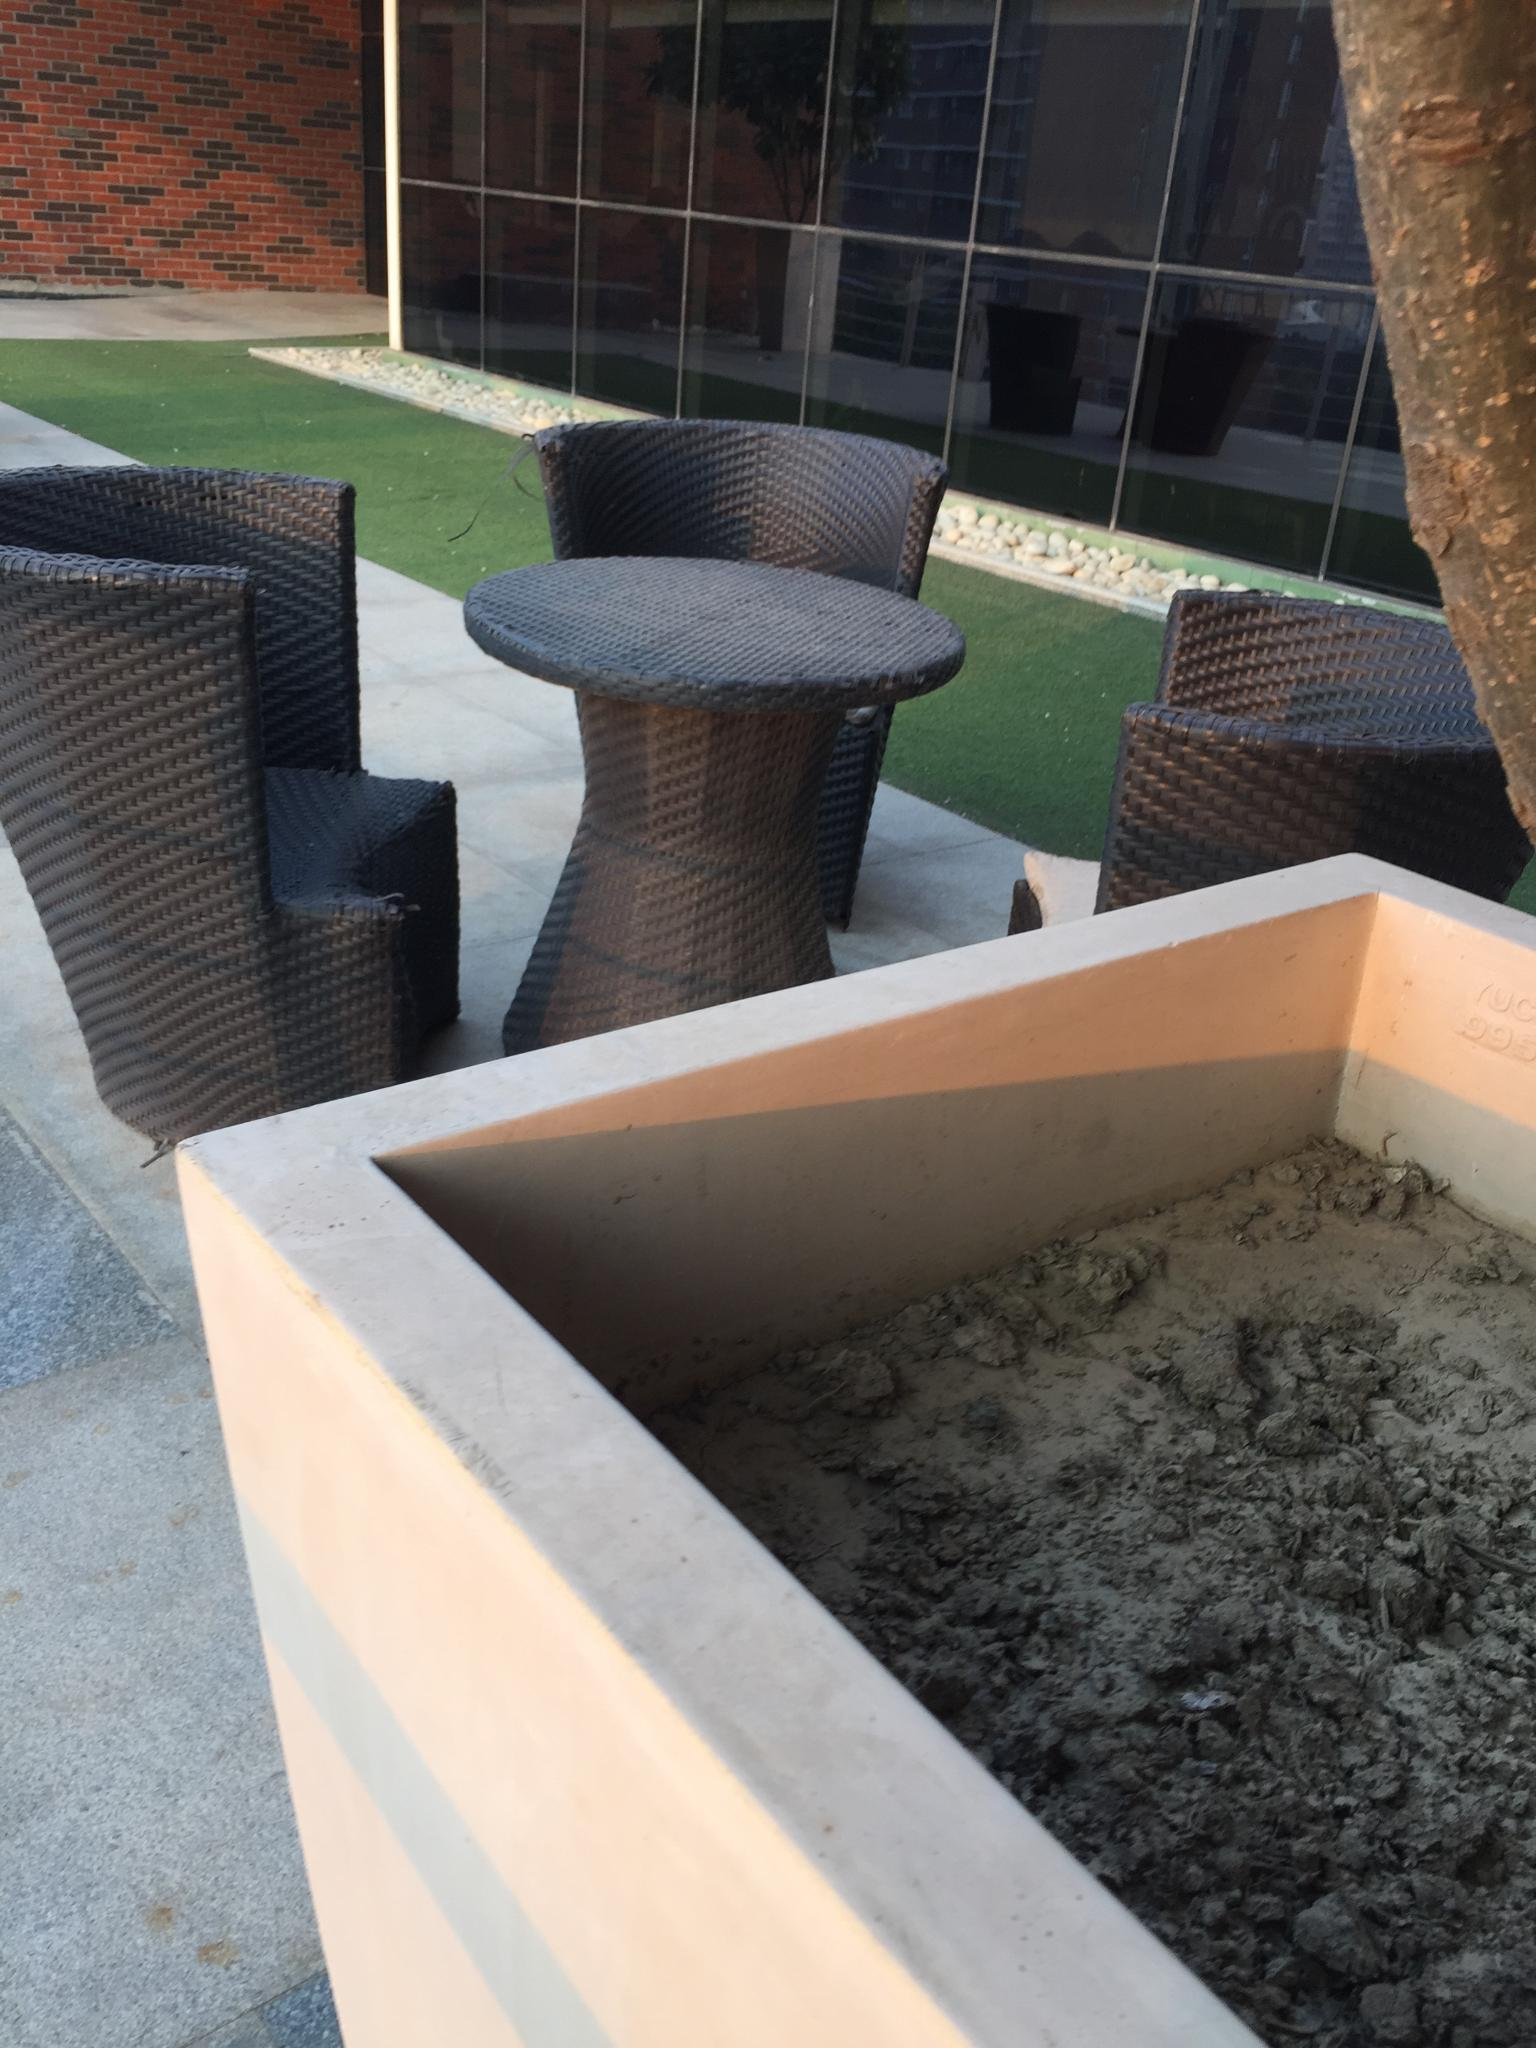chair: (2, 463, 461, 1164), (532, 416, 952, 929), (1007, 585, 1533, 937)
